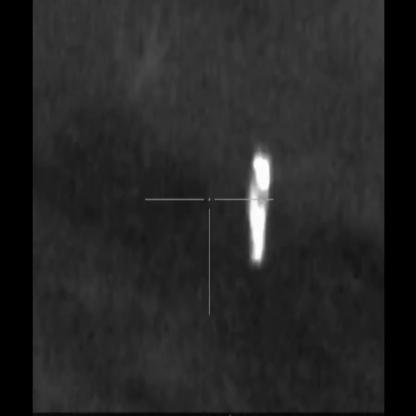rehkitze: (248, 152, 274, 276)
